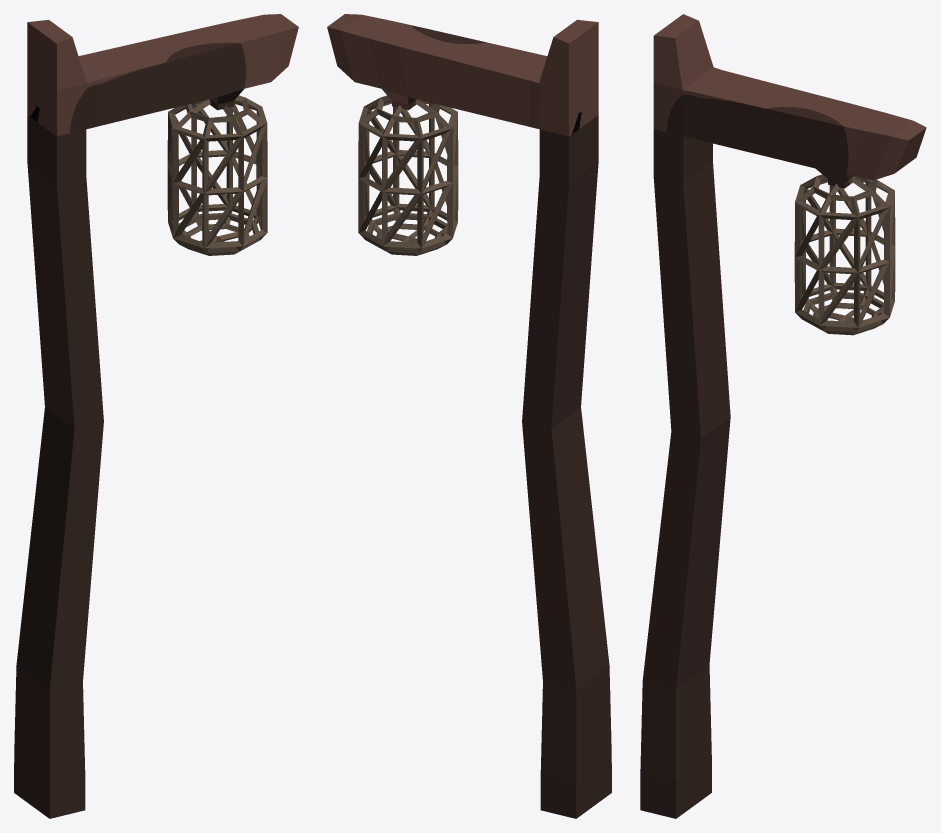
The model's file is M_Lamp.fbx.
The picture shows the model from 3 angles, left to right: view 1: azimuth 30°, elevation 25°; view 2: azimuth 150°, elevation 25°; view 3: azimuth 330°, elevation 25°; orthographic projection.
Visible parts, largest first — view 1: Lenten; view 2: Lenten; view 3: Lenten.
Part boxes in pixels (<box>): Lenten: <box>14,14,298,818</box>; Lenten: <box>327,14,611,818</box>; Lenten: <box>640,14,926,818</box>.
Size of the model in its own units: 95.23 by 272 by 33.08.
1 material, 1 textured.
